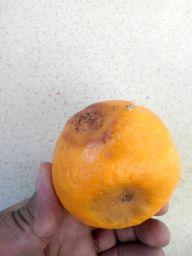Unripe: (49, 99, 184, 229)
